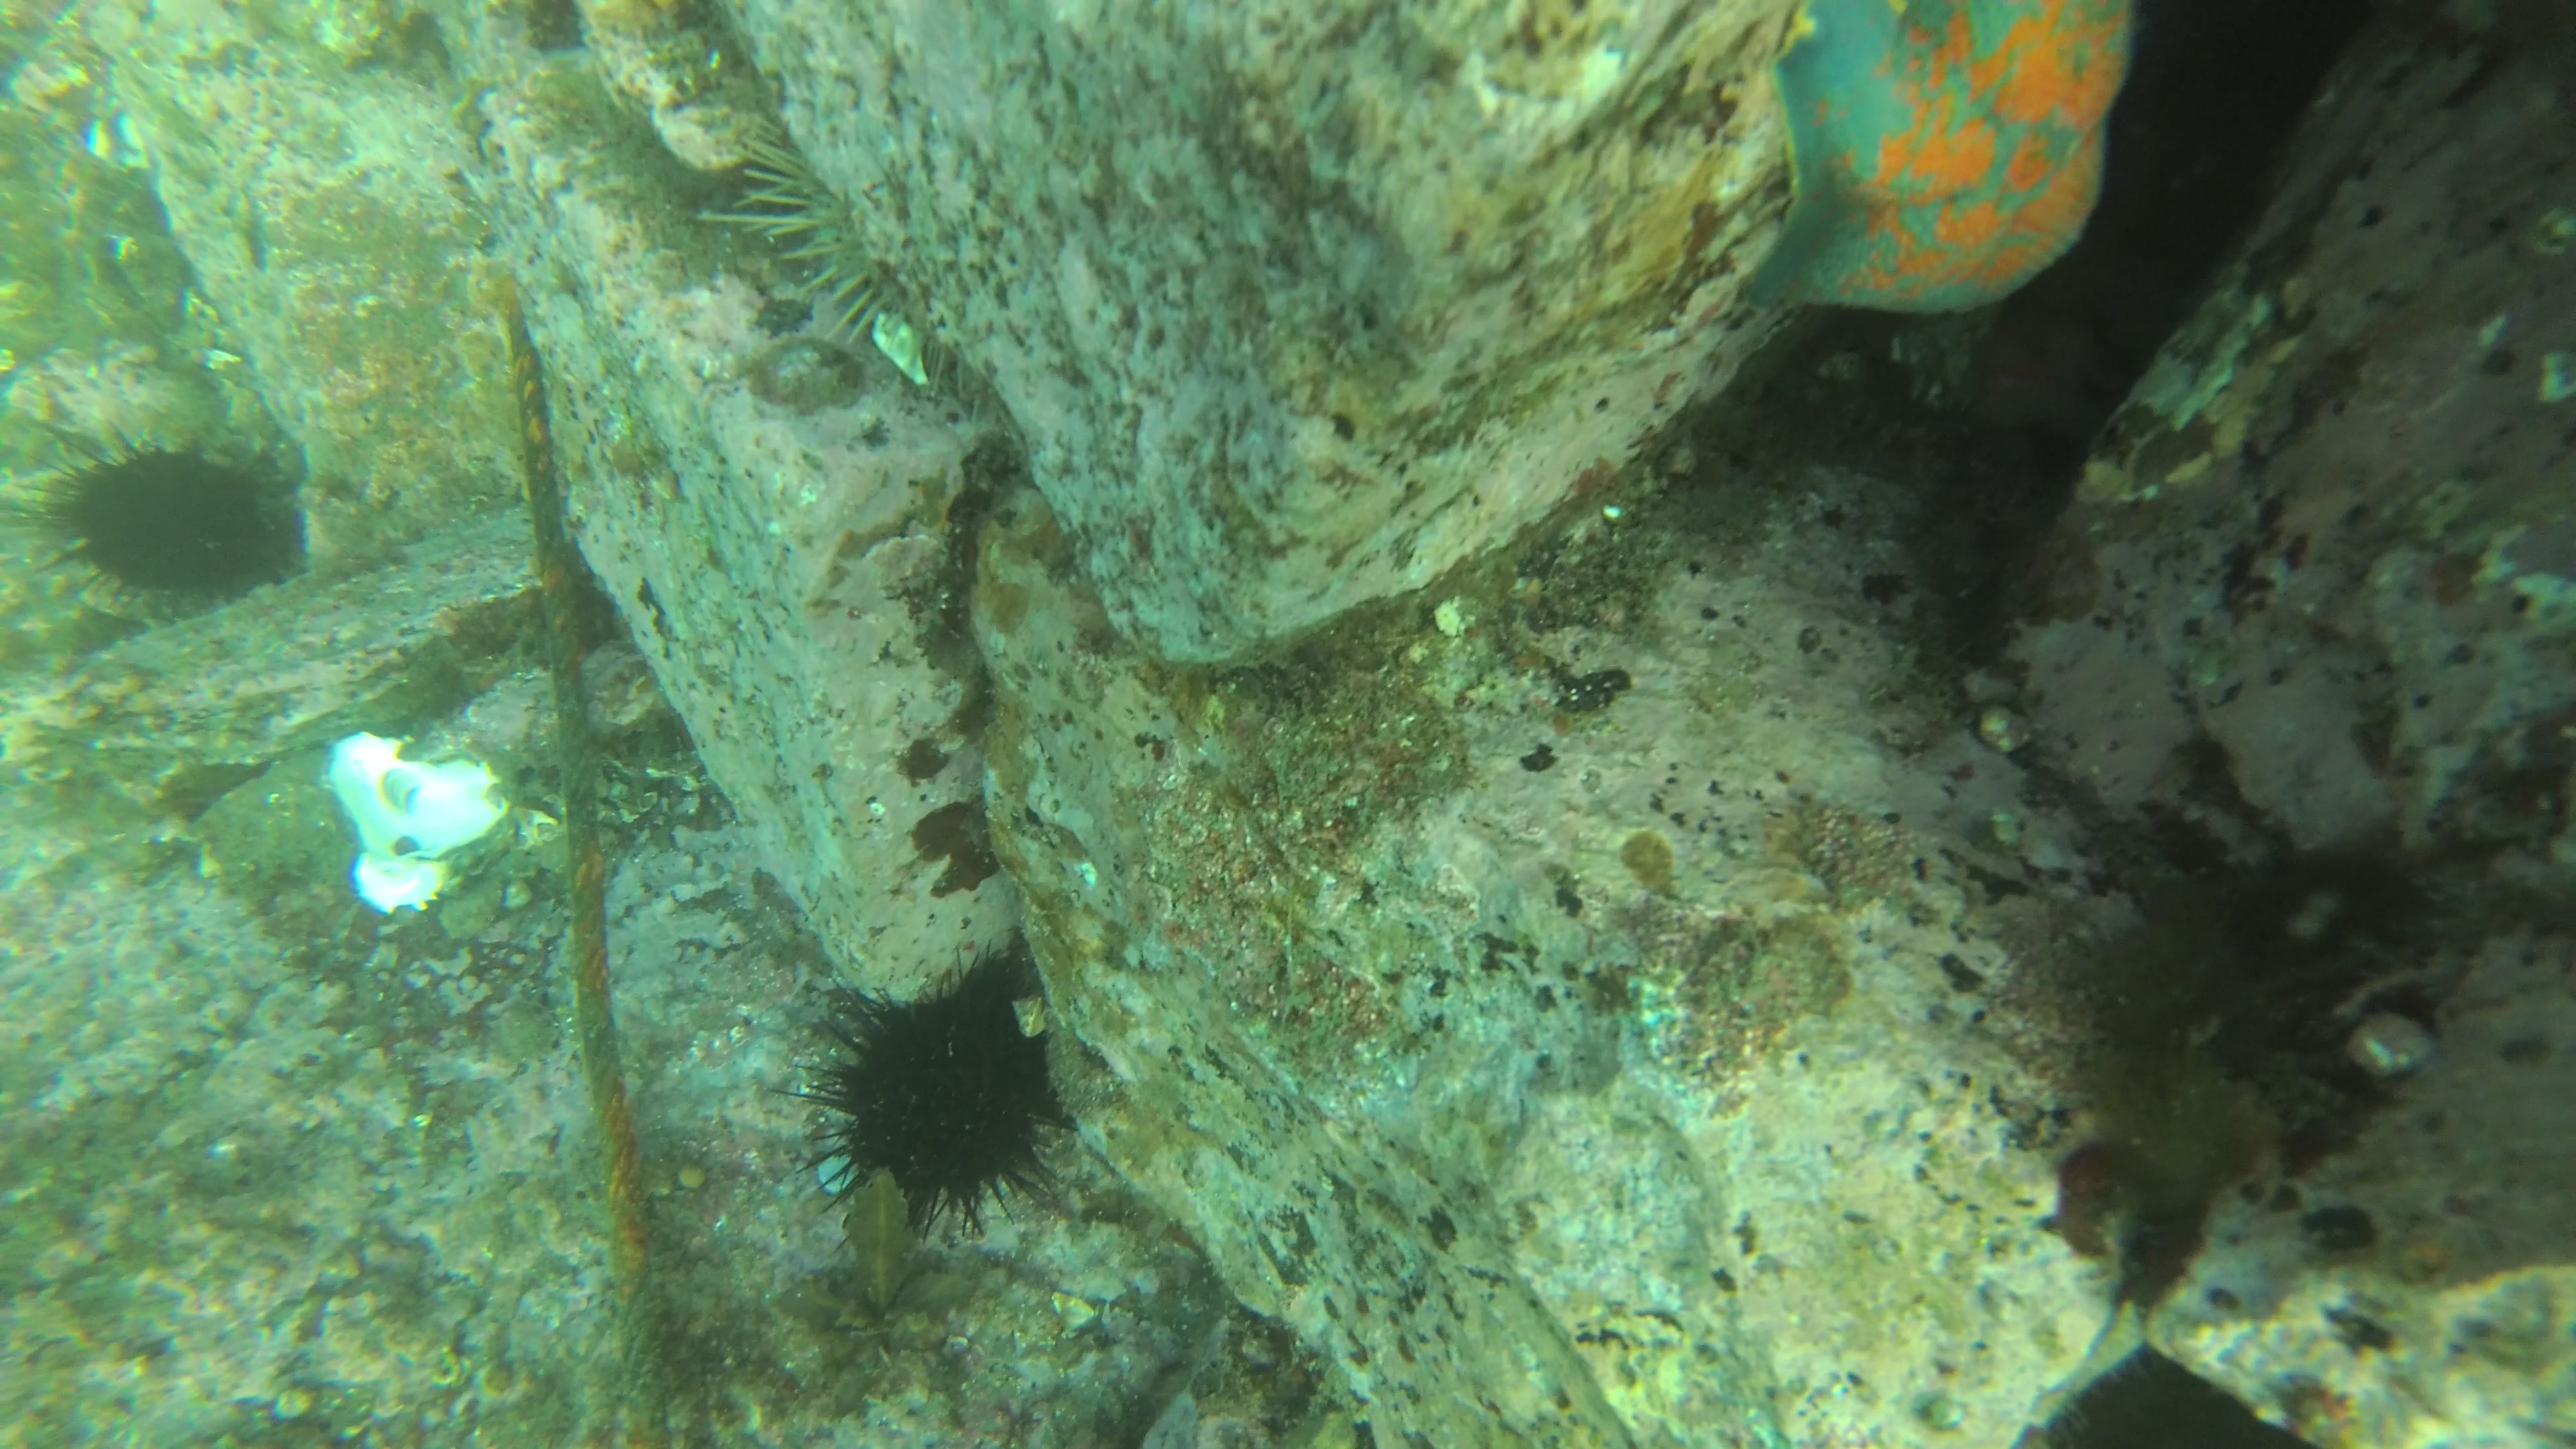echinus: (697, 104, 996, 403), (800, 952, 1086, 1238), (23, 419, 304, 619), (2056, 1332, 2323, 1449)
starfish: (1730, 0, 2144, 315)
